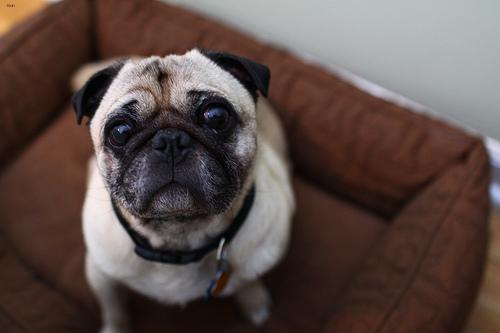dog-pug: (70, 46, 268, 217)
